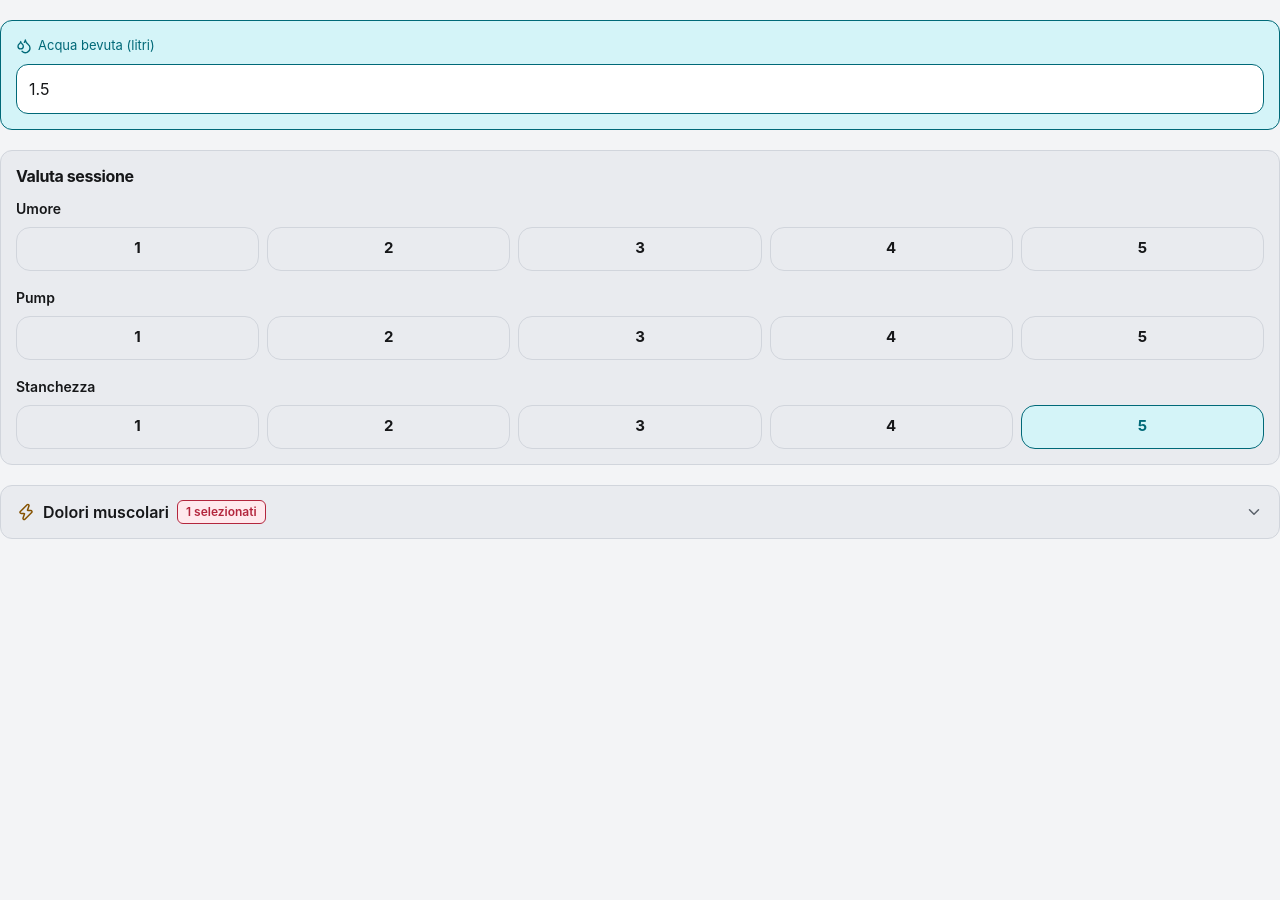
Challenger 2: Adversarial State Management, Schemas, Guest Merge & UI Resilience › 5. UI Rendering & Real-Time Interaction Resilience (R2, R3, R4, R5) › 5.4 SessionRatings renders interactive DOMS pain selector button and collapsible container
Expected: the heading "Valuta sessione" is shown, [16,166,134,186]
Click the button "Dolori muscolari 1 selezionati" at [106, 512], box [1,486,1279,538]
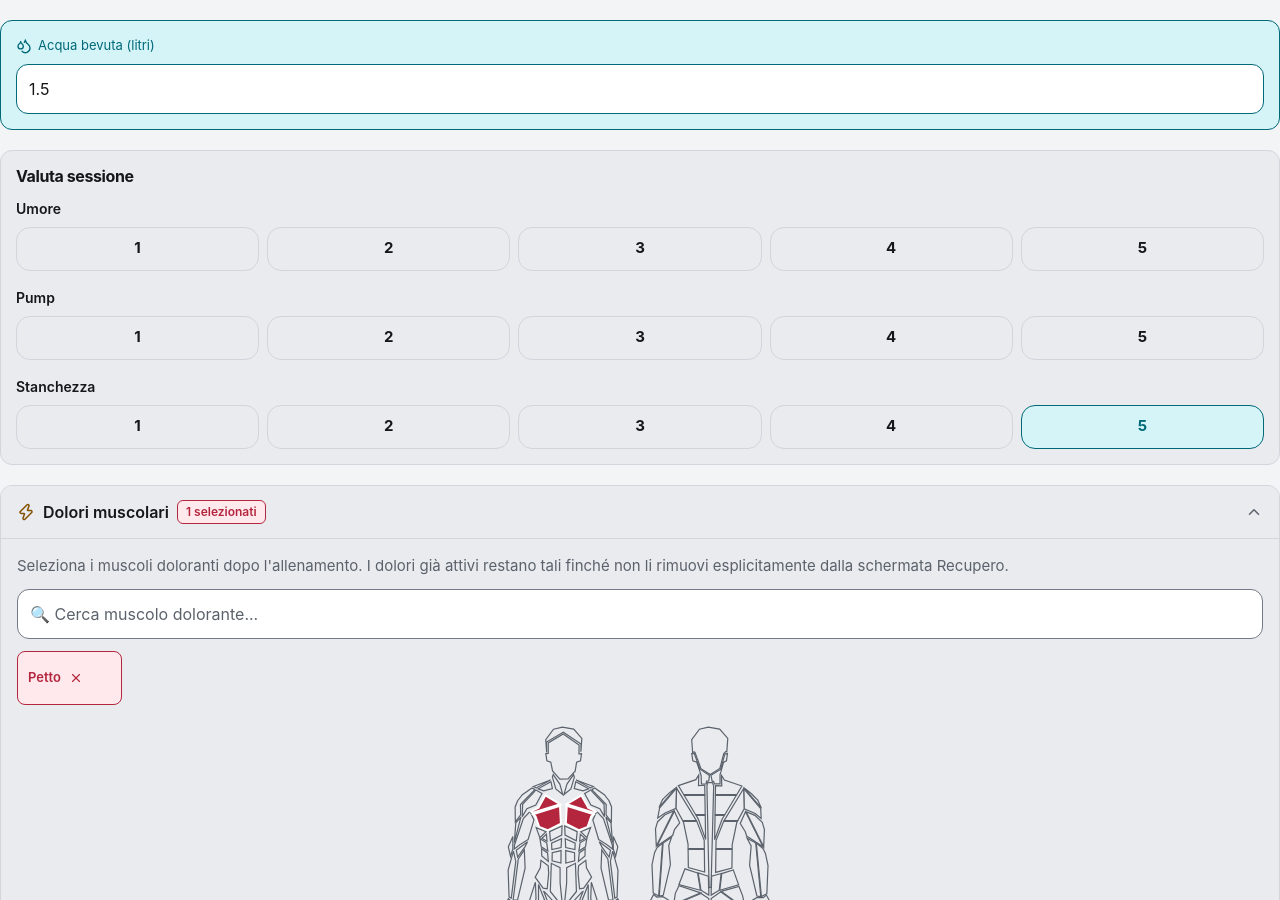
Now the button "Dolori muscolari 1 selezionati" is expanded, box [1,486,1279,538]
Now the field with placeholder "🔍 Cerca muscolo dolorante..." is shown, box [17,589,1263,639]
